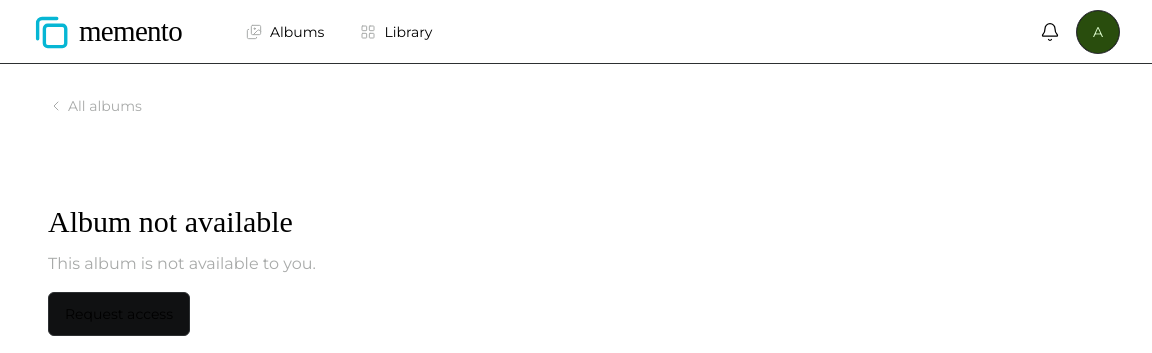
Test: offers an explicit Request access action on an inaccessible Album
This screenshot has width=1152, height=353.
Expected: the heading "Album not available" is shown, top-left (48, 205), bottom-right (293, 238)
What coordinates should you click on to do the following:
click the button "Request access"
I would click on:
 (119, 314)
Its box is top-left (48, 292), bottom-right (190, 336).
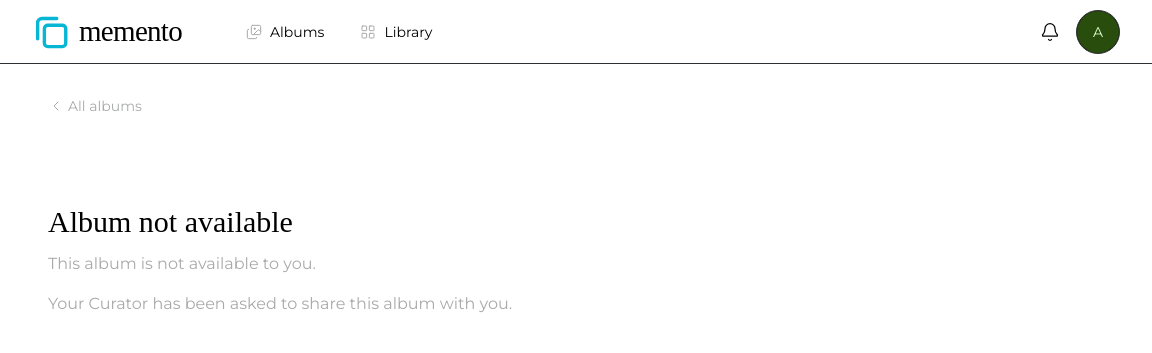
Now the message reads "Your Curator has been asked to share this album with you.", box top-left (48, 294), bottom-right (512, 313)
Now the button "Request access" is gone
